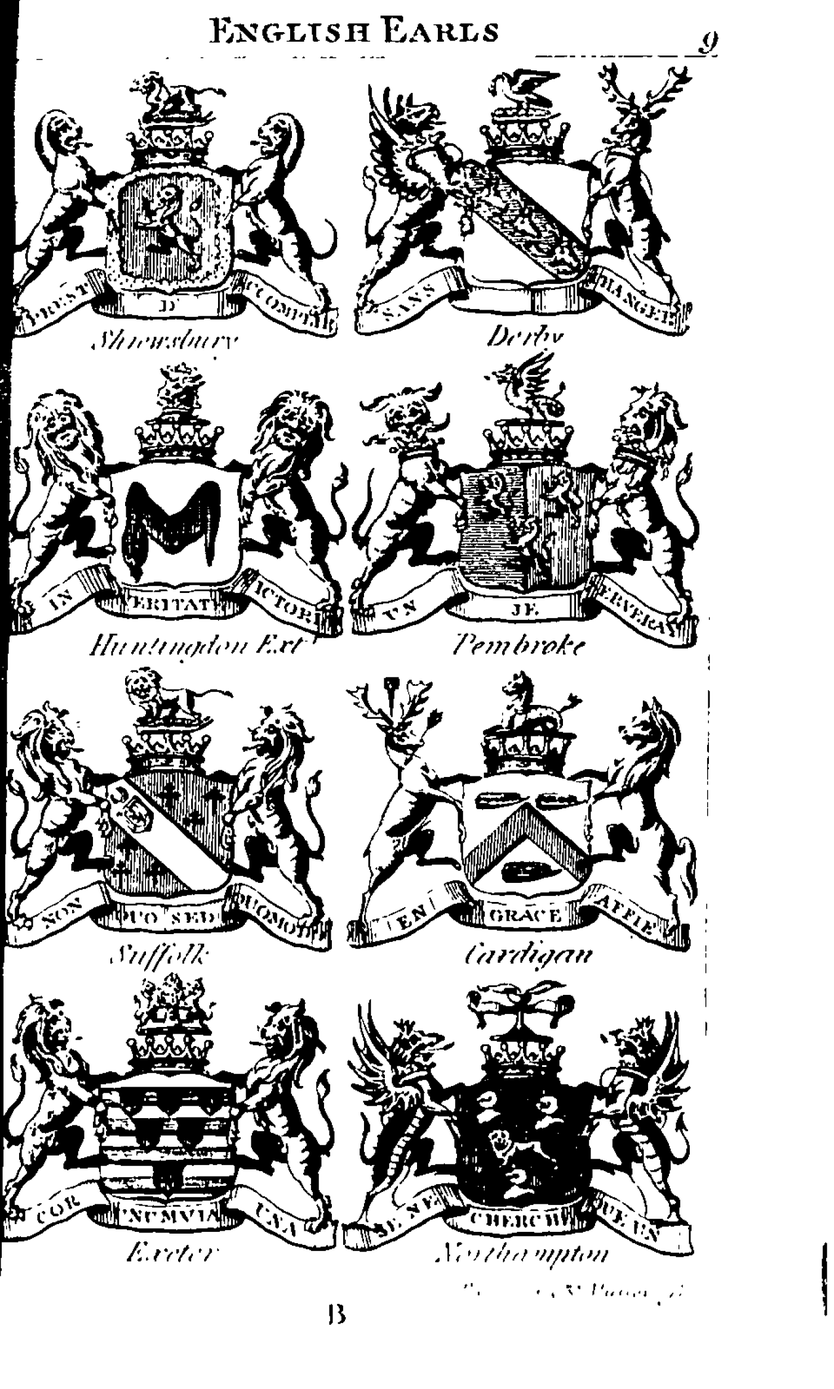coat_of_arms: (354, 359, 698, 670), (348, 58, 705, 356), (345, 671, 695, 972), (340, 979, 698, 1272), (10, 366, 347, 669), (2, 971, 342, 1268), (15, 61, 337, 363), (9, 672, 333, 966)
